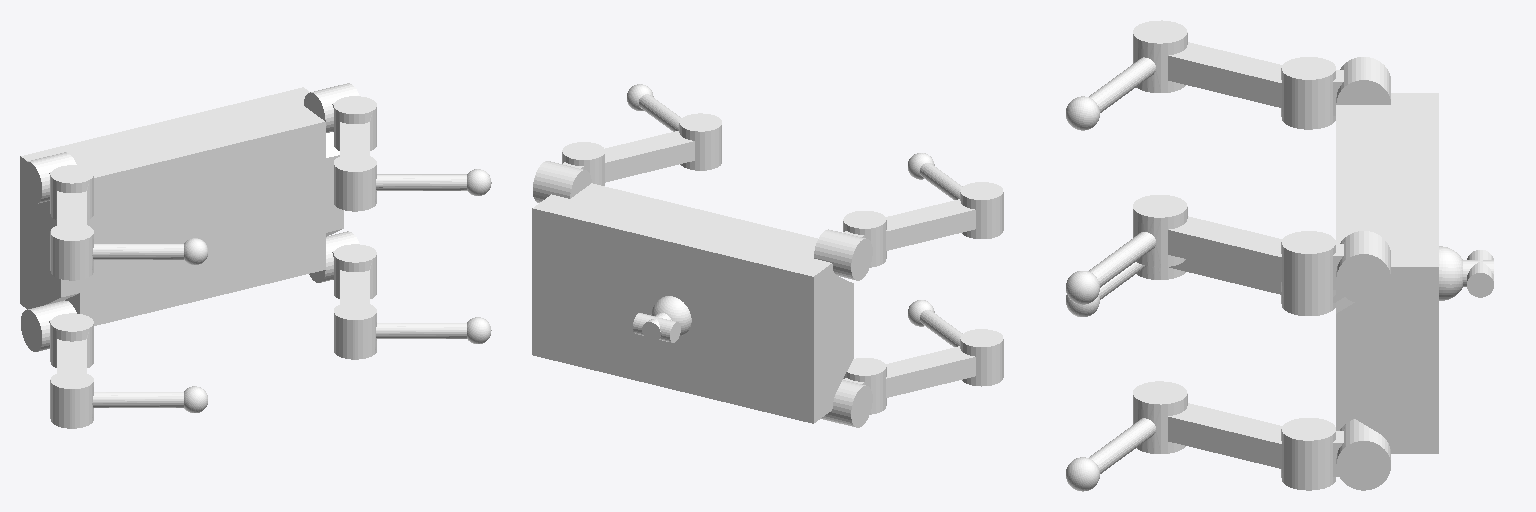
--- What the picture shows (computed from the rendered views, not written in the file) ---
Views: 3 orthographic renders of the robot side by side, from view 1: azimuth 30°, elevation 25°; view 2: azimuth 150°, elevation 25°; view 3: azimuth 270°, elevation 25°.
Robot: quadruped — 21 links, 20 joints (12 revolute, 2 prismatic, 6 fixed); root link world; default pose: all joints at 0.
Links seen in each view (by area): view 1: base, RF_KNEE, LH_KNEE, RH_KNEE, LF_KNEE, RH_SHANK, LH_SHANK, LF_SHANK, RF_SHANK, RH_HIP, LH_HIP, RF_HIP (+5 smaller); view 2: base, RH_SHANK, LH_SHANK, RF_SHANK, RH_KNEE, LH_KNEE, RF_KNEE, RH_HIP, RF_HIP, LH_HIP, center_of_mass, forward_backward; view 3: base, RF_SHANK, RH_SHANK, LF_SHANK, LF_KNEE, RF_KNEE, RH_KNEE, RF_HIP, LF_HIP, RH_HIP, LH_SHANK, center_of_mass (+5 smaller).
Link boxes in pixels (x1,y1,x2,y2): base: (20,87,343,325); RF_KNEE: (334,154,466,211); LH_KNEE: (50,371,183,428); RH_KNEE: (50,223,183,280); LF_KNEE: (334,302,466,359); RH_SHANK: (50,165,93,224); LH_SHANK: (50,313,93,372); LF_SHANK: (334,244,376,303); RF_SHANK: (334,96,376,155); RH_HIP: (21,152,76,203); LH_HIP: (21,300,76,351); RF_HIP: (304,83,359,132); base: (532,183,853,423); RH_SHANK: (843,199,975,267); LH_SHANK: (843,346,975,414); RF_SHANK: (562,131,694,185); RH_KNEE: (920,163,1003,238); LH_KNEE: (920,310,1003,386); RF_KNEE: (639,94,721,170); RH_HIP: (814,229,872,280); RF_HIP: (533,161,591,202); LH_HIP: (821,378,872,427); center_of_mass: (651,296,691,336); forward_backward: (633,313,680,342); base: (1336,93,1438,453); RF_SHANK: (1168,216,1335,303); RH_SHANK: (1168,42,1335,129); LF_SHANK: (1168,403,1335,490); LF_KNEE: (1089,381,1187,473); RF_KNEE: (1089,195,1187,287); RH_KNEE: (1089,20,1187,112); RF_HIP: (1333,231,1390,303); LF_HIP: (1333,419,1390,490); RH_HIP: (1333,57,1390,115); LH_SHANK: (1169,259,1335,315); center_of_mass: (1439,246,1462,300).
Bounding box of the posed robot: 0.8597 × 0.624 × 0.38 m (x, y, z).
Meshes: 20 distinct files referenced, 20 mesh visuals loaded (20 binary STL).

URDF robot description (quadruped):
<?xml version="1.0"?>
<robot
  name="quadruped">

<link name="world"/>

 <joint name="grounding" type="fixed">
    <origin xyz="0 0 0" rpy="0 0 0"></origin>
    <parent link="world"/>
    <child link="forward_backward"/>
  </joint>

  <link
    name="forward_backward">
    <inertial>
      <origin
        xyz="2.77555756156289E-17 0 0"
        rpy="0 0 0" />
      <mass
        value="0.100530964914873" />
      <inertia
        ixx="0"
        ixy="0"
        ixz="0"
        iyy="0"
        iyz="0"
        izz="0" />
    </inertial>
    <visual>
      <origin
        xyz="0 0 0"
        rpy="0 0 0" />
      <geometry>
        <mesh
          filename="package://quadruped/meshes/forward_backward.STL" />
      </geometry>
      <material
        name="">
        <color
          rgba="1 1 1 1" />
      </material>
    </visual>
    <collision>
      <origin
        xyz="0 0 0"
        rpy="0 0 0" />
      <geometry>
        <mesh
          filename="package://quadruped/meshes/forward_backward.STL" />
      </geometry>
    </collision>
  </link>
  <link
    name="up_down">
    <inertial>
      <origin
        xyz="4.16333634234434E-17 0 4.44089209850063E-16"
        rpy="0 0 0" />
      <mass
        value="0.100530964914873" />
      <inertia
        ixx="0"
        ixy="0"
        ixz="0"
        iyy="0"
        iyz="0"
        izz="0" />
    </inertial>
    <visual>
      <origin
        xyz="0 0 0"
        rpy="0 0 0" />
      <geometry>
        <mesh
          filename="package://quadruped/meshes/up_down.STL" />
      </geometry>
      <material
        name="">
        <color
          rgba="1 1 1 1" />
      </material>
    </visual>
    <collision>
      <origin
        xyz="0 0 0"
        rpy="0 0 0" />
      <geometry>
        <mesh
          filename="package://quadruped/meshes/up_down.STL" />
      </geometry>
    </collision>
  </link>
  <joint
    name="forward_backward"
    type="prismatic">
    <origin
      xyz="0 0 0"
      rpy="2.2676E-18 -5.6552E-16 -8.0665E-17" />
    <parent
      link="forward_backward" />
    <child
      link="up_down" />
    <axis
      xyz="1 0 0" />
    <limit
      lower="-10"
      upper="10"
      effort="80"
      velocity="7" />
  </joint>

  <link
    name="base">
    <inertial>
      <origin
        xyz="1.38777878078145E-17 -0.0740143074166761 1.11022302462516E-16"
        rpy="0 0 0" />
      <mass
        value="10" />
      <inertia
        ixx="0.1"
        ixy="0"
        ixz="0"
        iyy="0.1"
        iyz="0"
        izz="0.1" />
    </inertial>
    <visual>
      <origin
        xyz="0 0 0"
        rpy="0 0 0" />
      <geometry>
        <mesh
          filename="package://quadruped/meshes/base.STL" />
      </geometry>
      <material
        name="">
        <color
          rgba="1 1 1 1" />
      </material>
    </visual>
    <collision>
      <origin
        xyz="0 0 0"
        rpy="0 0 0" />
      <geometry>
        <mesh
          filename="package://quadruped/meshes/base.STL" />
      </geometry>
    </collision>
  </link>
  <joint
    name="up_down"
    type="prismatic">
    <origin
      xyz="0 -0.06 0"
      rpy="-2.2676E-18 5.6205E-16 8.0665E-17" />
    <parent
      link="up_down" />
    <child
      link="base" />
    <axis
      xyz="0 1 0" />
    <limit
      lower="-0.2"
      upper="0.1"
      effort="80"
      velocity="7" />
  </joint>
  <link
    name="center_of_mass">
    <inertial>
      <origin
        xyz="1.38777878078145E-17 0 0"
        rpy="0 0 0" />
      <mass
        value="0.268082573106329" />
      <inertia
        ixx="0.1"
        ixy="0"
        ixz="0"
        iyy="0.1"
        iyz="0"
        izz="0.1" />
    </inertial>
    <visual>
      <origin
        xyz="0 0 0"
        rpy="0 0 0" />
      <geometry>
        <mesh
          filename="package://quadruped/meshes/center_of_mass.STL" />
      </geometry>
      <material
        name="">
        <color
          rgba="1 1 1 1" />
      </material>
    </visual>
    <collision>
      <origin
        xyz="0 0 0"
        rpy="0 0 0" />
      <geometry>
        <mesh
          filename="package://quadruped/meshes/center_of_mass.STL" />
      </geometry>
    </collision>
  </link>
  <joint
    name="center_of_mass"
    type="fixed">
    <origin
      xyz="0 0 0"
      rpy="7.7037E-34 0.022534 -1.8128E-16" />
    <parent
      link="base" />
    <child
      link="center_of_mass" />
    <axis
      xyz="0 0 0" />
  </joint>
  <link
    name="LF_HIP">
    <inertial>
      <origin
        xyz="5.55111512312578E-17 -0.00603191577528073 0"
        rpy="0 0 0" />
      <mass
        value="0.413475328046838" />
      <inertia
        ixx="0.1"
        ixy="0"
        ixz="0"
        iyy="0.1"
        iyz="0"
        izz="0.1" />
    </inertial>
    <visual>
      <origin
        xyz="0 0 0"
        rpy="0 0 0" />
      <geometry>
        <mesh
          filename="package://quadruped/meshes/LF_HIP.STL" />
      </geometry>
      <material
        name="">
        <color
          rgba="1 1 1 1" />
      </material>
    </visual>
    <collision>
      <origin
        xyz="0 0 0"
        rpy="0 0 0" />
      <geometry>
        <mesh
          filename="package://quadruped/meshes/LF_HIP.STL" />
      </geometry>
    </collision>
  </link>
  <joint
    name="LF_HAA"
    type="revolute">
    <origin
      xyz="0.3 -0.10502 -0.15"
      rpy="2.7756E-16 -5.8981E-17 -1.8128E-16" />
    <parent
      link="base" />
    <child
      link="LF_HIP" />
    <axis
      xyz="1 0 0" />
    <limit
      lower="-1.57"
      upper="1.57"
      effort="80"
      velocity="7" />
  </joint>
  <link
    name="LF_SHANK">
    <inertial>
      <origin
        xyz="-6.93889390390723E-17 -0.0664457851504855 0"
        rpy="0 0 0" />
      <mass
        value="0.791190416472512" />
      <inertia
        ixx="0.1"
        ixy="0"
        ixz="0"
        iyy="0.1"
        iyz="0"
        izz="0.1" />
    </inertial>
    <visual>
      <origin
        xyz="0 0 0"
        rpy="0 0 0" />
      <geometry>
        <mesh
          filename="package://quadruped/meshes/LF_SHANK.STL" />
      </geometry>
      <material
        name="">
        <color
          rgba="1 1 1 1" />
      </material>
    </visual>
    <collision>
      <origin
        xyz="0 0 0"
        rpy="0 0 0" />
      <geometry>
        <mesh
          filename="package://quadruped/meshes/LF_SHANK.STL" />
      </geometry>
    </collision>
  </link>
  <joint
    name="LF_HFE"
    type="revolute">
    <origin
      xyz="0.0024886 -0.080667 0"
      rpy="-2.5153E-16 -1.2143E-16 -0.5236" />
    <parent
      link="LF_HIP" />
    <child
      link="LF_SHANK" />
    <axis
      xyz="0 0 1" />
    <limit
      lower="-3.14"
      upper="3.14"
      effort="80"
      velocity="7" />
  </joint>
  <link
    name="LF_KNEE">
    <inertial>
      <origin
        xyz="0.0283889333015588 2.25673227272072E-07 -2.79728842866867E-08"
        rpy="0 0 0" />
      <mass
        value="0.517428787817436" />
      <inertia
        ixx="0.1"
        ixy="0"
        ixz="0"
        iyy="0.1"
        iyz="0"
        izz="0.1" />
    </inertial>
    <visual>
      <origin
        xyz="0 0 0"
        rpy="0 0 0" />
      <geometry>
        <mesh
          filename="package://quadruped/meshes/LF_KNEE.STL" />
      </geometry>
      <material
        name="">
        <color
          rgba="1 1 1 1" />
      </material>
    </visual>
    <collision>
      <origin
        xyz="0 0 0"
        rpy="0 0 0" />
      <geometry>
        <mesh
          filename="package://quadruped/meshes/LF_KNEE.STL" />
      </geometry>
    </collision>
  </link>
  <joint
    name="LF_KFE"
    type="revolute">
    <origin
      xyz="-0.0014584 -0.25498 0"
      rpy="0 0 1.61E-17" />
    <parent
      link="LF_SHANK" />
    <child
      link="LF_KNEE" />
    <axis
      xyz="0 0 1" />
    <limit
      lower="-3.14"
      upper="3.14"
      effort="80"
      velocity="7" />
  </joint>
  <link
    name="LF_FOOT">
    <inertial>
      <origin
        xyz="0 0 0"
        rpy="0 0 0" />
      <mass
        value="0.0654498469497874" />
      <inertia
        ixx="0.1"
        ixy="0"
        ixz="0"
        iyy="0.1"
        iyz="0"
        izz="0.1" />
    </inertial>
    <visual>
      <origin
        xyz="0 0 0"
        rpy="0 0 0" />
      <geometry>
        <mesh
          filename="package://quadruped/meshes/LF_FOOT.STL" />
      </geometry>
      <material
        name="">
        <color
          rgba="1 1 1 1" />
      </material>
    </visual>
    <collision>
      <origin
        xyz="0 0 0"
        rpy="0 0 0" />
      <geometry>
        <mesh
          filename="package://quadruped/meshes/LF_FOOT.STL" />
      </geometry>
    </collision>
  </link>
  <joint
    name="LF_FOOT"
    type="fixed">
    <origin
      xyz="0.22646 0 0"
      rpy="0 0 1.61E-17" />
    <parent
      link="LF_KNEE" />
    <child
      link="LF_FOOT" />
    <axis
      xyz="0 0 0" />
  </joint>
  <link
    name="RF_HIP">
    <inertial>
      <origin
        xyz="5.55111512312578E-17 -0.00603191577528073 1.11022302462516E-16"
        rpy="0 0 0" />
      <mass
        value="0.413475328046837" />
      <inertia
        ixx="0.1"
        ixy="0"
        ixz="0"
        iyy="0.1"
        iyz="0"
        izz="0.1" />
    </inertial>
    <visual>
      <origin
        xyz="0 0 0"
        rpy="0 0 0" />
      <geometry>
        <mesh
          filename="package://quadruped/meshes/RF_HIP.STL" />
      </geometry>
      <material
        name="">
        <color
          rgba="1 1 1 1" />
      </material>
    </visual>
    <collision>
      <origin
        xyz="0 0 0"
        rpy="0 0 0" />
      <geometry>
        <mesh
          filename="package://quadruped/meshes/RF_HIP.STL" />
      </geometry>
    </collision>
  </link>
  <joint
    name="RF_HAA"
    type="revolute">
    <origin
      xyz="0.3 -0.10502 0.15"
      rpy="2.3592E-16 -6.9389E-17 -1.8128E-16" />
    <parent
      link="base" />
    <child
      link="RF_HIP" />
    <axis
      xyz="1 0 0" />
    <limit
      lower="-1.57"
      upper="1.57"
      effort="80"
      velocity="7" />
  </joint>
  <link
    name="RF_SHANK">
    <inertial>
      <origin
        xyz="-1.38777878078145E-17 -0.0664457851504854 -1.11022302462516E-16"
        rpy="0 0 0" />
      <mass
        value="0.791190416472513" />
      <inertia
        ixx="0.1"
        ixy="0"
        ixz="0"
        iyy="0.1"
        iyz="0"
        izz="0.1" />
    </inertial>
    <visual>
      <origin
        xyz="0 0 0"
        rpy="0 0 0" />
      <geometry>
        <mesh
          filename="package://quadruped/meshes/RF_SHANK.STL" />
      </geometry>
      <material
        name="">
        <color
          rgba="1 1 1 1" />
      </material>
    </visual>
    <collision>
      <origin
        xyz="0 0 0"
        rpy="0 0 0" />
      <geometry>
        <mesh
          filename="package://quadruped/meshes/RF_SHANK.STL" />
      </geometry>
    </collision>
  </link>
  <joint
    name="RF_HFE"
    type="revolute">
    <origin
      xyz="0.0024886 -0.080667 0"
      rpy="-2.6888E-16 -6.9389E-18 -0.5236" />
    <parent
      link="RF_HIP" />
    <child
      link="RF_SHANK" />
    <axis
      xyz="0 0 1" />
    <limit
      lower="-3.14"
      upper="3.14"
      effort="80"
      velocity="7" />
  </joint>
  <link
    name="RF_KNEE">
    <inertial>
      <origin
        xyz="0.0283889333015588 2.2567322716105E-07 -2.79728843421978E-08"
        rpy="0 0 0" />
      <mass
        value="0.517428787817436" />
      <inertia
        ixx="0.1"
        ixy="0"
        ixz="0"
        iyy="0.1"
        iyz="0"
        izz="0.1" />
    </inertial>
    <visual>
      <origin
        xyz="0 0 0"
        rpy="0 0 0" />
      <geometry>
        <mesh
          filename="package://quadruped/meshes/RF_KNEE.STL" />
      </geometry>
      <material
        name="">
        <color
          rgba="1 1 1 1" />
      </material>
    </visual>
    <collision>
      <origin
        xyz="0 0 0"
        rpy="0 0 0" />
      <geometry>
        <mesh
          filename="package://quadruped/meshes/RF_KNEE.STL" />
      </geometry>
    </collision>
  </link>
  <joint
    name="RF_KFE"
    type="revolute">
    <origin
      xyz="-0.0014584 -0.25498 0"
      rpy="0 -3.4694E-18 1.4122E-17" />
    <parent
      link="RF_SHANK" />
    <child
      link="RF_KNEE" />
    <axis
      xyz="0 0 1" />
    <limit
      lower="-3.14"
      upper="3.14"
      effort="80"
      velocity="7" />
  </joint>
  <link
    name="RF_FOOT">
    <inertial>
      <origin
        xyz="0 0 0"
        rpy="0 0 0" />
      <mass
        value="0.0654498469497874" />
      <inertia
        ixx="0.1"
        ixy="0"
        ixz="0"
        iyy="0.1"
        iyz="0"
        izz="0.1" />
    </inertial>
    <visual>
      <origin
        xyz="0 0 0"
        rpy="0 0 0" />
      <geometry>
        <mesh
          filename="package://quadruped/meshes/RF_FOOT.STL" />
      </geometry>
      <material
        name="">
        <color
          rgba="1 1 1 1" />
      </material>
    </visual>
    <collision>
      <origin
        xyz="0 0 0"
        rpy="0 0 0" />
      <geometry>
        <mesh
          filename="package://quadruped/meshes/RF_FOOT.STL" />
      </geometry>
    </collision>
  </link>
  <joint
    name="RF_FOOT"
    type="fixed">
    <origin
      xyz="0.22646 0 0"
      rpy="0 -3.4694E-18 1.4122E-17" />
    <parent
      link="RF_KNEE" />
    <child
      link="RF_FOOT" />
    <axis
      xyz="0 0 0" />
  </joint>
  <link
    name="RH_HIP">
    <inertial>
      <origin
        xyz="-5.55111512312578E-17 -0.00603191577528073 0"
        rpy="0 0 0" />
      <mass
        value="0.413475328046837" />
      <inertia
        ixx="0.1"
        ixy="0"
        ixz="0"
        iyy="0.1"
        iyz="0"
        izz="0.1" />
    </inertial>
    <visual>
      <origin
        xyz="0 0 0"
        rpy="0 0 0" />
      <geometry>
        <mesh
          filename="package://quadruped/meshes/RH_HIP.STL" />
      </geometry>
      <material
        name="">
        <color
          rgba="1 1 1 1" />
      </material>
    </visual>
    <collision>
      <origin
        xyz="0 0 0"
        rpy="0 0 0" />
      <geometry>
        <mesh
          filename="package://quadruped/meshes/RH_HIP.STL" />
      </geometry>
    </collision>
  </link>
  <joint
    name="RH_HAA"
    type="revolute">
    <origin
      xyz="-0.3 -0.10502 0.15"
      rpy="3.6776E-16 -6.5919E-17 -1.8128E-16" />
    <parent
      link="base" />
    <child
      link="RH_HIP" />
    <axis
      xyz="1 0 0" />
    <limit
      lower="-1.57"
      upper="1.57"
      effort="80"
      velocity="7" />
  </joint>
  <link
    name="RH_SHANK">
    <inertial>
      <origin
        xyz="5.55111512312578E-17 -0.0664457851504854 0"
        rpy="0 0 0" />
      <mass
        value="0.791190416472513" />
      <inertia
        ixx="0.1"
        ixy="0"
        ixz="0"
        iyy="0.1"
        iyz="0"
        izz="0.1" />
    </inertial>
    <visual>
      <origin
        xyz="0 0 0"
        rpy="0 0 0" />
      <geometry>
        <mesh
          filename="package://quadruped/meshes/RH_SHANK.STL" />
      </geometry>
      <material
        name="">
        <color
          rgba="1 1 1 1" />
      </material>
    </visual>
    <collision>
      <origin
        xyz="0 0 0"
        rpy="0 0 0" />
      <geometry>
        <mesh
          filename="package://quadruped/meshes/RH_SHANK.STL" />
      </geometry>
    </collision>
  </link>
  <joint
    name="RH_HFE"
    type="revolute">
    <origin
      xyz="0.0024886 -0.080667 0"
      rpy="-5.4991E-16 2.1164E-16 -0.5236" />
    <parent
      link="RH_HIP" />
    <child
      link="RH_SHANK" />
    <axis
      xyz="0 0 1" />
    <limit
      lower="-3.14"
      upper="3.14"
      effort="80"
      velocity="7" />
  </joint>
  <link
    name="RH_KNEE">
    <inertial>
      <origin
        xyz="0.0283889333015588 2.25673227202683E-07 -2.79728842311755E-08"
        rpy="0 0 0" />
      <mass
        value="0.517428787817437" />
      <inertia
        ixx="0.1"
        ixy="0"
        ixz="0"
        iyy="0.1"
        iyz="0"
        izz="0.1" />
    </inertial>
    <visual>
      <origin
        xyz="0 0 0"
        rpy="0 0 0" />
      <geometry>
        <mesh
          filename="package://quadruped/meshes/RH_KNEE.STL" />
      </geometry>
      <material
        name="">
        <color
          rgba="1 1 1 1" />
      </material>
    </visual>
    <collision>
      <origin
        xyz="0 0 0"
        rpy="0 0 0" />
      <geometry>
        <mesh
          filename="package://quadruped/meshes/RH_KNEE.STL" />
      </geometry>
    </collision>
  </link>
  <joint
    name="RH_KFE"
    type="revolute">
    <origin
      xyz="-0.0014584 -0.25498 0"
      rpy="3.8858E-16 -3.4694E-18 7.5894E-18" />
    <parent
      link="RH_SHANK" />
    <child
      link="RH_KNEE" />
    <axis
      xyz="0 0 1" />
    <limit
      lower="-3.14"
      upper="3.14"
      effort="80"
      velocity="7" />
  </joint>
  <link
    name="RH_FOOT">
    <inertial>
      <origin
        xyz="5.55111512312578E-17 0 0"
        rpy="0 0 0" />
      <mass
        value="0.0654498469497874" />
      <inertia
        ixx="0.1"
        ixy="0"
        ixz="0"
        iyy="0.1"
        iyz="0"
        izz="0.1" />
    </inertial>
    <visual>
      <origin
        xyz="0 0 0"
        rpy="0 0 0" />
      <geometry>
        <mesh
          filename="package://quadruped/meshes/RH_FOOT.STL" />
      </geometry>
      <material
        name="">
        <color
          rgba="1 1 1 1" />
      </material>
    </visual>
    <collision>
      <origin
        xyz="0 0 0"
        rpy="0 0 0" />
      <geometry>
        <mesh
          filename="package://quadruped/meshes/RH_FOOT.STL" />
      </geometry>
    </collision>
  </link>
  <joint
    name="RH_FOOT"
    type="fixed">
    <origin
      xyz="0.22646 0 0"
      rpy="-3.8511E-16 -3.4694E-18 1.5125E-17" />
    <parent
      link="RH_KNEE" />
    <child
      link="RH_FOOT" />
    <axis
      xyz="0 0 0" />
  </joint>
  <link
    name="LH_HIP">
    <inertial>
      <origin
        xyz="-2.77555756156289E-17 -0.00603191577528073 -5.55111512312578E-17"
        rpy="0 0 0" />
      <mass
        value="0.413475328046838" />
      <inertia
        ixx="0.1"
        ixy="0"
        ixz="0"
        iyy="0.1"
        iyz="0"
        izz="0.1" />
    </inertial>
    <visual>
      <origin
        xyz="0 0 0"
        rpy="0 0 0" />
      <geometry>
        <mesh
          filename="package://quadruped/meshes/LH_HIP.STL" />
      </geometry>
      <material
        name="">
        <color
          rgba="1 1 1 1" />
      </material>
    </visual>
    <collision>
      <origin
        xyz="0 0 0"
        rpy="0 0 0" />
      <geometry>
        <mesh
          filename="package://quadruped/meshes/LH_HIP.STL" />
      </geometry>
    </collision>
  </link>
  <joint
    name="LH_HAA"
    type="revolute">
    <origin
      xyz="-0.3 -0.10502 -0.15"
      rpy="1.8041E-16 -4.8572E-17 -1.8128E-16" />
    <parent
      link="base" />
    <child
      link="LH_HIP" />
    <axis
      xyz="1 0 0" />
    <limit
      lower="-1.57"
      upper="1.57"
      effort="80"
      velocity="7" />
  </joint>
  <link
    name="LH_SHANK">
    <inertial>
      <origin
        xyz="0 -0.0664457851504854 -1.11022302462516E-16"
        rpy="0 0 0" />
      <mass
        value="0.791190416472512" />
      <inertia
        ixx="0.1"
        ixy="0"
        ixz="0"
        iyy="0.1"
        iyz="0"
        izz="0.1" />
    </inertial>
    <visual>
      <origin
        xyz="0 0 0"
        rpy="0 0 0" />
      <geometry>
        <mesh
          filename="package://quadruped/meshes/LH_SHANK.STL" />
      </geometry>
      <material
        name="">
        <color
          rgba="1 1 1 1" />
      </material>
    </visual>
    <collision>
      <origin
        xyz="0 0 0"
        rpy="0 0 0" />
      <geometry>
        <mesh
          filename="package://quadruped/meshes/LH_SHANK.STL" />
      </geometry>
    </collision>
  </link>
  <joint
    name="LH_HFE"
    type="revolute">
    <origin
      xyz="0.0024886 -0.080667 0"
      rpy="-2.0123E-16 -1.3878E-17 -0.5236" />
    <parent
      link="LH_HIP" />
    <child
      link="LH_SHANK" />
    <axis
      xyz="0 0 1" />
    <limit
      lower="-3.14"
      upper="3.14"
      effort="80"
      velocity="7" />
  </joint>
  <link
    name="LH_KNEE">
    <inertial>
      <origin
        xyz="0.0283889333015588 2.25673227174927E-07 -2.79728843421978E-08"
        rpy="0 0 0" />
      <mass
        value="0.517428787817437" />
      <inertia
        ixx="0.1"
        ixy="0"
        ixz="0"
        iyy="0.1"
        iyz="0"
        izz="0.1" />
    </inertial>
    <visual>
      <origin
        xyz="0 0 0"
        rpy="0 0 0" />
      <geometry>
        <mesh
          filename="package://quadruped/meshes/LH_KNEE.STL" />
      </geometry>
      <material
        name="">
        <color
          rgba="1 1 1 1" />
      </material>
    </visual>
    <collision>
      <origin
        xyz="0 0 0"
        rpy="0 0 0" />
      <geometry>
        <mesh
          filename="package://quadruped/meshes/LH_KNEE.STL" />
      </geometry>
    </collision>
  </link>
  <joint
    name="LH_KFE"
    type="revolute">
    <origin
      xyz="-0.0014584 -0.25498 0"
      rpy="-1.7347E-18 0 1.461E-17" />
    <parent
      link="LH_SHANK" />
    <child
      link="LH_KNEE" />
    <axis
      xyz="0 0 1" />
    <limit
      lower="-3.14"
      upper="3.14"
      effort="80"
      velocity="7" />
  </joint>
  <link
    name="LH_FOOT">
    <inertial>
      <origin
        xyz="4.85722573273506E-15 5.5649929109336E-15 -0.299999999999998"
        rpy="0 0 0" />
      <mass
        value="0.0654498469497874" />
      <inertia
        ixx="0.1"
        ixy="0"
        ixz="0"
        iyy="0.1"
        iyz="0"
        izz="0.1" />
    </inertial>
    <visual>
      <origin
        xyz="0 0 0"
        rpy="0 0 0" />
      <geometry>
        <mesh
          filename="package://quadruped/meshes/LH_FOOT.STL" />
      </geometry>
      <material
        name="">
        <color
          rgba="1 1 1 1" />
      </material>
    </visual>
    <collision>
      <origin
        xyz="0 0 0"
        rpy="0 0 0" />
      <geometry>
        <mesh
          filename="package://quadruped/meshes/LH_FOOT.STL" />
      </geometry>
    </collision>
  </link>
  <joint
    name="LH_FOOT"
    type="fixed">
    <origin
      xyz="0.22646 0 0.3"
      rpy="-1.8041E-16 3.0878E-16 -9.9936E-17" />
    <parent
      link="LH_KNEE" />
    <child
      link="LH_FOOT" />
    <axis
      xyz="0 0 0" />
  </joint>

  <gazebo>
    <plugin name="gazebo_ros_control" filename="libgazebo_ros_control.so">
      <robotSimType>gazebo_ros_control/DefaultRobotHWSim</robotSimType>
      <robotNamespace>/quadruped</robotNamespace>
      <legacyModeNS>true</legacyModeNS>
    </plugin>
  </gazebo>
  

<gazebo reference="LF_FOOT">
  <sensor name="LF_FOOT_contact_sensor" type="contact">
    <always_on>true</always_on>
    <update_rate>120.0</update_rate>
    <contact>
      <collision>LF_FOOT_collision</collision>
    </contact>
    <plugin name="gazebo_ros_bumper_controller_1" filename="libgazebo_ros_bumper.so">
      <bumperTopicName>/LF_FOOT_contact_sensor_state</bumperTopicName>
      <frameName>LF_FOOT</frameName>
    </plugin>
  </sensor>
</gazebo>
  <gazebo reference="RF_FOOT">
  <sensor name="RF_FOOT_contact_sensor" type="contact">
    <always_on>true</always_on>
    <update_rate>120.0</update_rate>
    <contact>
      <collision>RF_FOOT_collision</collision>
    </contact>
    <plugin name="gazebo_ros_bumper_controller" filename="libgazebo_ros_bumper.so">
      <bumperTopicName>/RF_FOOT_contact_sensor_state</bumperTopicName>
      <frameName>RF_FOOT</frameName>
    </plugin>
  </sensor>
</gazebo>


  <transmission name="tran1">
    <type>transmission_interface/SimpleTransmission</type>
    <joint name="LF_HAA">
      <hardwareInterface>hardware_interface/PositionJointInterface</hardwareInterface>
    </joint>
    <actuator name="motor1">
      <hardwareInterface>hardware_interface/PositionJointInterface</hardwareInterface>
      <mechanicalReduction>1</mechanicalReduction>
    </actuator>
  </transmission>

  <transmission name="tran2">
    <type>transmission_interface/SimpleTransmission</type>
    <joint name="LF_HFE">
      <hardwareInterface>hardware_interface/PositionJointInterface</hardwareInterface>
    </joint>
    <actuator name="motor2">
      <hardwareInterface>hardware_interface/PositionJointInterface</hardwareInterface>
      <mechanicalReduction>1</mechanicalReduction>
    </actuator>
  </transmission>

  <transmission name="tran3">
    <type>transmission_interface/SimpleTransmission</type>
    <joint name="LF_KFE">
      <hardwareInterface>hardware_interface/PositionJointInterface</hardwareInterface>
    </joint>
    <actuator name="motor3">
      <hardwareInterface>hardware_interface/PositionJointInterface</hardwareInterface>
      <mechanicalReduction>1</mechanicalReduction>
    </actuator>
  </transmission>

  <transmission name="tran4">
    <type>transmission_interface/SimpleTransmission</type>
    <joint name="LH_HAA">
      <hardwareInterface>hardware_interface/PositionJointInterface</hardwareInterface>
    </joint>
    <actuator name="motor4">
      <hardwareInterface>hardware_interface/PositionJointInterface</hardwareInterface>
      <mechanicalReduction>1</mechanicalReduction>
    </actuator>
  </transmission>

  <transmission name="tran5">
    <type>transmission_interface/SimpleTransmission</type>
    <joint name="LH_HFE">
      <hardwareInterface>hardware_interface/PositionJointInterface</hardwareInterface>
    </joint>
    <actuator name="motor5">
      <hardwareInterface>hardware_interface/PositionJointInterface</hardwareInterface>
      <mechanicalReduction>1</mechanicalReduction>
    </actuator>
  </transmission>

  <transmission name="tran6">
    <type>transmission_interface/SimpleTransmission</type>
    <joint name="LH_KFE">
      <hardwareInterface>hardware_interface/PositionJointInterface</hardwareInterface>
    </joint>
    <actuator name="motor6">
      <hardwareInterface>hardware_interface/PositionJointInterface</hardwareInterface>
      <mechanicalReduction>1</mechanicalReduction>
    </actuator>
  </transmission>

  <transmission name="tran7">
    <type>transmission_interface/SimpleTransmission</type>
    <joint name="RF_HAA">
      <hardwareInterface>hardware_interface/PositionJointInterface</hardwareInterface>
    </joint>
    <actuator name="motor7">
      <hardwareInterface>hardware_interface/PositionJointInterface</hardwareInterface>
      <mechanicalReduction>1</mechanicalReduction>
    </actuator>
  </transmission>
  <transmission name="tran8">
    <type>transmission_interface/SimpleTransmission</type>
    <joint name="RF_HFE">
      <hardwareInterface>hardware_interface/PositionJointInterface</hardwareInterface>
    </joint>
    <actuator name="motor8">
      <hardwareInterface>hardware_interface/PositionJointInterface</hardwareInterface>
      <mechanicalReduction>1</mechanicalReduction>
    </actuator>
  </transmission>

  <transmission name="tran9">
    <type>transmission_interface/SimpleTransmission</type>
    <joint name="RF_KFE">
      <hardwareInterface>hardware_interface/PositionJointInterface</hardwareInterface>
    </joint>
    <actuator name="motor9">
      <hardwareInterface>hardware_interface/PositionJointInterface</hardwareInterface>
      <mechanicalReduction>1</mechanicalReduction>
    </actuator>
  </transmission>

  <transmission name="tran10">
    <type>transmission_interface/SimpleTransmission</type>
    <joint name="RH_HAA">
      <hardwareInterface>hardware_interface/PositionJointInterface</hardwareInterface>
    </joint>
    <actuator name="motor10">
      <hardwareInterface>hardware_interface/PositionJointInterface</hardwareInterface>
      <mechanicalReduction>1</mechanicalReduction>
    </actuator>
  </transmission>

  <transmission name="tran11">
    <type>transmission_interface/SimpleTransmission</type>
    <joint name="RH_HFE">
      <hardwareInterface>hardware_interface/PositionJointInterface</hardwareInterface>
    </joint>
    <actuator name="motor11">
      <hardwareInterface>hardware_interface/PositionJointInterface</hardwareInterface>
      <mechanicalReduction>1</mechanicalReduction>
    </actuator>
  </transmission>

  <transmission name="tran12">
    <type>transmission_interface/SimpleTransmission</type>
    <joint name="RH_KFE">
      <hardwareInterface>hardware_interface/PositionJointInterface</hardwareInterface>
    </joint>
    <actuator name="motor12">
      <hardwareInterface>hardware_interface/PositionJointInterface</hardwareInterface>
      <mechanicalReduction>1</mechanicalReduction>
    </actuator>
  </transmission>
</robot>
